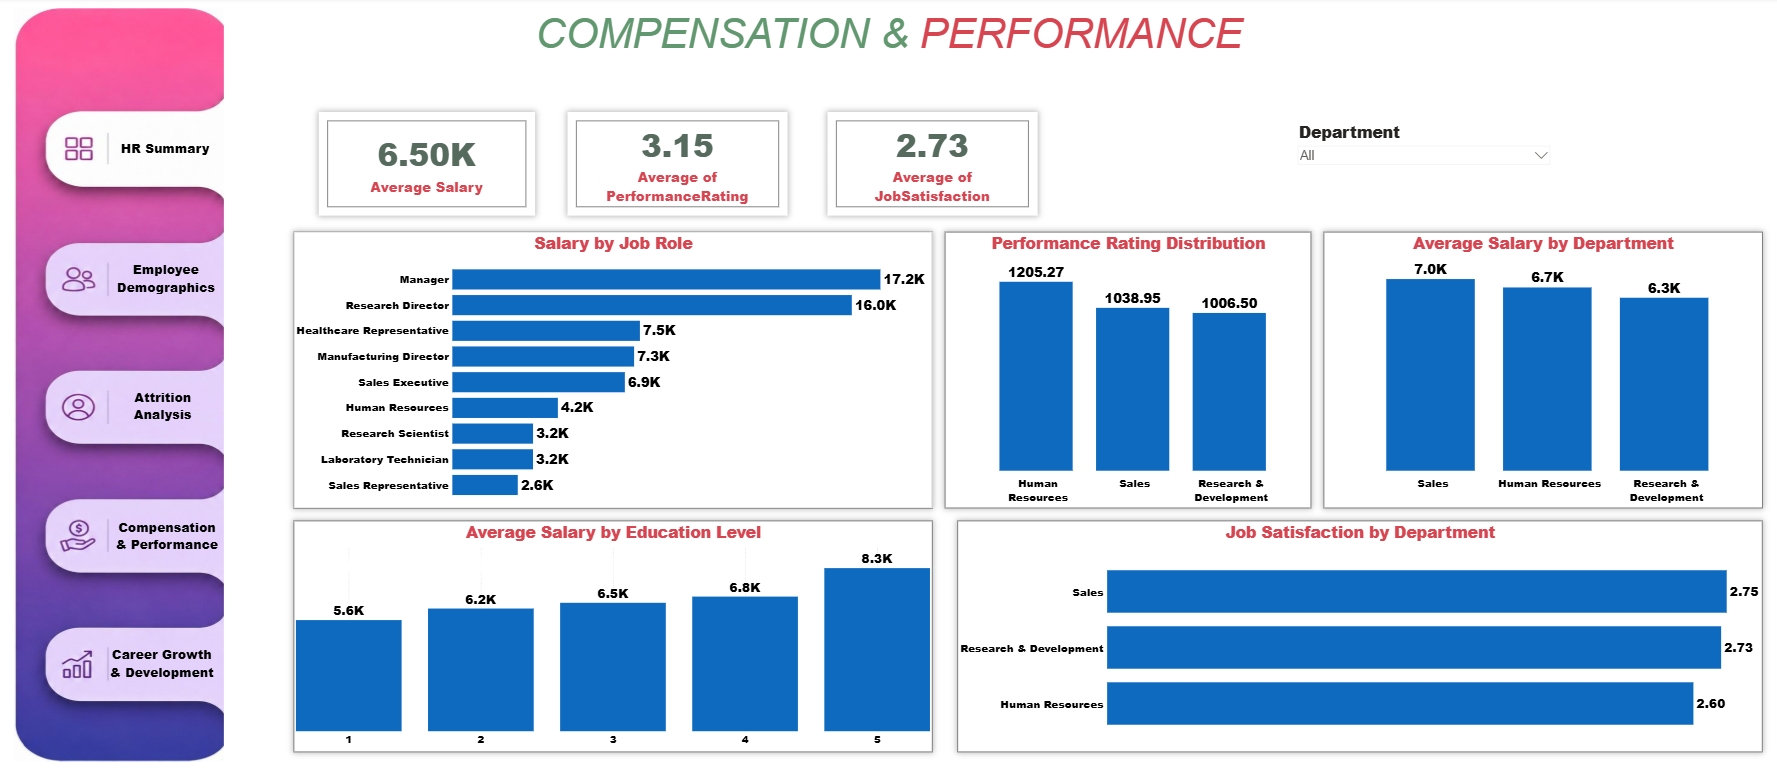

The dashboard page shown, as its layout file describes it:
{"tool":"powerbi","page":{"name":"Page 4","canvas":[4580,2000],"ordinal":3},"visuals":[{"type":"textbox","box":[1281.9,28.9,2004.7,138.1],"z":0},{"type":"image","box":[36.7,29.4,540,1935.9],"z":1000},{"type":"cardVisual","fields":{"Data":["WA_Fn-UseC_-HR-Employee-Attrition.Average Salary"]},"box":[819.2,295.6,555.8,266.7],"z":2000},{"type":"cardVisual","fields":{"Data":["Avg(WA_Fn-UseC_-HR-Employee-Attrition.PerformanceRating)"]},"box":[1458.6,295.6,565.4,266.7],"z":3000},{"type":"cardVisual","fields":{"Data":["Avg(WA_Fn-UseC_-HR-Employee-Attrition.JobSatisfaction)"]},"box":[2126.8,295.6,539.7,266.7],"z":4000},{"type":"barChart","title":"Salary by Job Role","fields":{"Y":["WA_Fn-UseC_-HR-Employee-Attrition.Average Salary"],"Category":["WA_Fn-UseC_-HR-Employee-Attrition.JobRole"]},"box":[755,604,1641.7,710],"z":5000},{"type":"clusteredColumnChart","title":"Performance Rating Distribution","fields":{"Y":["Avg(WA_Fn-UseC_-HR-Employee-Attrition.EmployeeNumber)"],"Category":["WA_Fn-UseC_-HR-Employee-Attrition.Department"]},"box":[2428.7,604.6,940.9,709.9],"z":6000},{"type":"clusteredColumnChart","fields":{"Category":["WA_Fn-UseC_-HR-Employee-Attrition.Department"],"Y":["WA_Fn-UseC_-HR-Employee-Attrition.Average Salary"]},"box":[3403.6,604.6,1127.7,709.9],"z":7000},{"type":"columnChart","title":"Average Salary by Education Level","fields":{"Category":["WA_Fn-UseC_-HR-Employee-Attrition.Education"],"Y":["WA_Fn-UseC_-HR-Employee-Attrition.Average Salary"]},"box":[755,1346.1,1641.7,594.3],"z":8000},{"type":"barChart","title":"Job Satisfaction by Department","fields":{"Category":["WA_Fn-UseC_-HR-Employee-Attrition.Department"],"Y":["Avg(WA_Fn-UseC_-HR-Employee-Attrition.JobSatisfaction)"]},"box":[2460.9,1346.1,2069,594.3],"z":9000},{"type":"actionButton","box":[258.6,347.5,335.3,80.8],"z":10000},{"type":"actionButton","box":[258.6,662.6,339.4,121.2],"z":11000},{"type":"actionButton","box":[282.8,977.1,272,146.7],"z":12000},{"type":"actionButton","box":[282.8,1310,293.5,146.7],"z":13000},{"type":"actionButton","box":[269.9,1638.5,292.4,147.8],"z":14000},{"type":"slicer","fields":{"Values":["WA_Fn-UseC_-HR-Employee-Attrition.Department"]},"box":[3326,316.1,668.5,118.6],"z":15000}]}

Visuals, with their boxes in screenshot pixels (x1, y1, x2, y2), scaled from the page's 4580x2000 canvas onto the 1777x772 screenshot:
textbox: pyautogui.locateOnScreen(497, 11, 1275, 64)
image: pyautogui.locateOnScreen(14, 11, 224, 759)
cardVisual - WA_Fn-UseC_-HR-Employee-Attrition.Average Salary: pyautogui.locateOnScreen(318, 114, 533, 217)
cardVisual - Avg(WA_Fn-UseC_-HR-Employee-Attrition.PerformanceRating): pyautogui.locateOnScreen(566, 114, 785, 217)
cardVisual - Avg(WA_Fn-UseC_-HR-Employee-Attrition.JobSatisfaction): pyautogui.locateOnScreen(825, 114, 1035, 217)
"Salary by Job Role" barChart: pyautogui.locateOnScreen(293, 233, 930, 507)
"Performance Rating Distribution" clusteredColumnChart: pyautogui.locateOnScreen(942, 233, 1307, 507)
clusteredColumnChart - WA_Fn-UseC_-HR-Employee-Attrition.Department x WA_Fn-UseC_-HR-Employee-Attrition.Average Salary: pyautogui.locateOnScreen(1321, 233, 1758, 507)
"Average Salary by Education Level" columnChart: pyautogui.locateOnScreen(293, 520, 930, 749)
"Job Satisfaction by Department" barChart: pyautogui.locateOnScreen(955, 520, 1758, 749)
actionButton: pyautogui.locateOnScreen(100, 134, 230, 165)
actionButton: pyautogui.locateOnScreen(100, 256, 232, 303)
actionButton: pyautogui.locateOnScreen(110, 377, 215, 434)
actionButton: pyautogui.locateOnScreen(110, 506, 224, 562)
actionButton: pyautogui.locateOnScreen(105, 632, 218, 690)
slicer - WA_Fn-UseC_-HR-Employee-Attrition.Department: pyautogui.locateOnScreen(1290, 122, 1550, 168)
